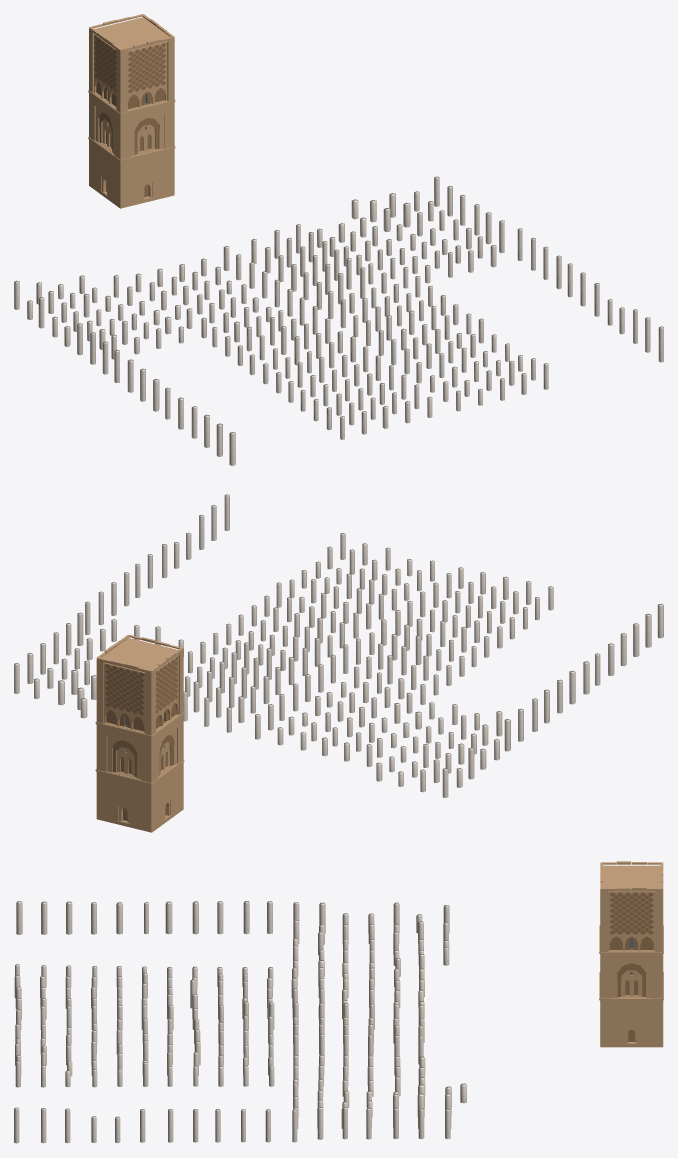
Rendered from rabat-hassan-tower.glb.
3 views of the same model, one above another, from view 1: azimuth 30°, elevation 25°; view 2: azimuth 150°, elevation 25°; view 3: azimuth 270°, elevation 25° (orthographic).
Parts seen in each view (by area): view 1: Hassan Tower; view 2: Hassan Tower; view 3: Hassan Tower.
Boxes of the visible parts, x1=… form: Hassan Tower: x1=14, y1=14, x2=663, y2=465; Hassan Tower: x1=14, y1=494, x2=663, y2=832; Hassan Tower: x1=14, y1=861, x2=663, y2=1143.
Size of the model in its own units: 127 by 44.54 by 165.
